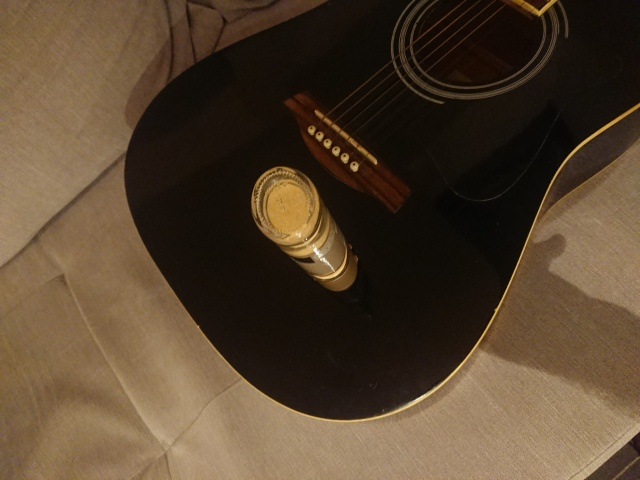Kotanyi Garlic Granules 70g: (247, 165, 360, 295)
